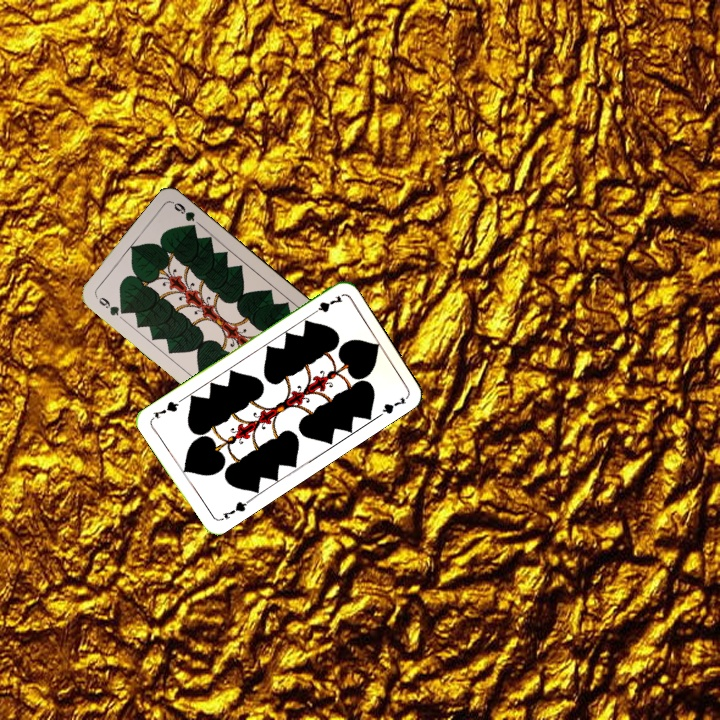G7: (307, 291, 345, 319), (216, 496, 252, 523)
G9: (92, 292, 128, 319)
